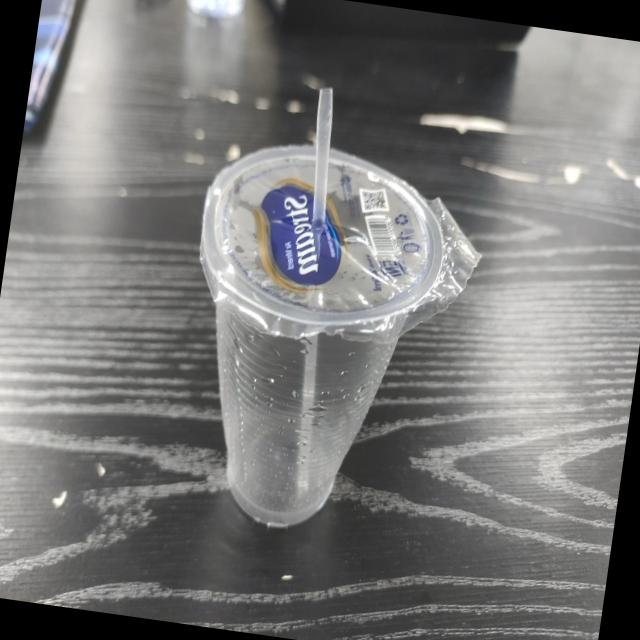GelasPlastik: (160, 125, 495, 552)
